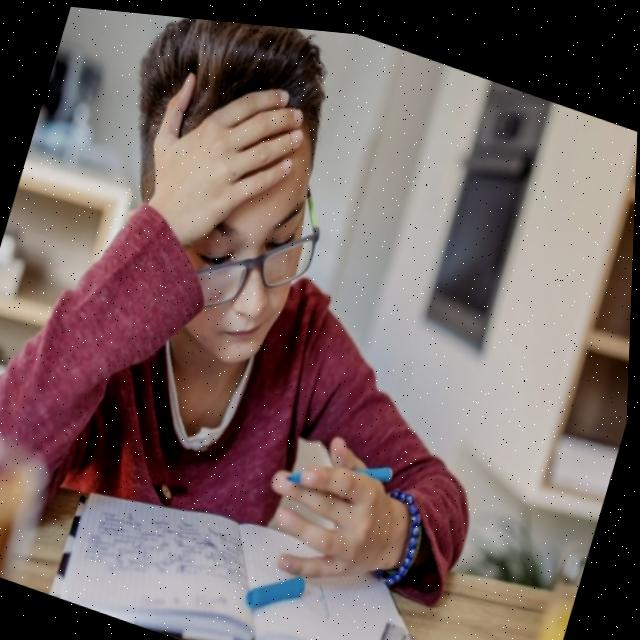studying-person: (0, 11, 494, 640)
